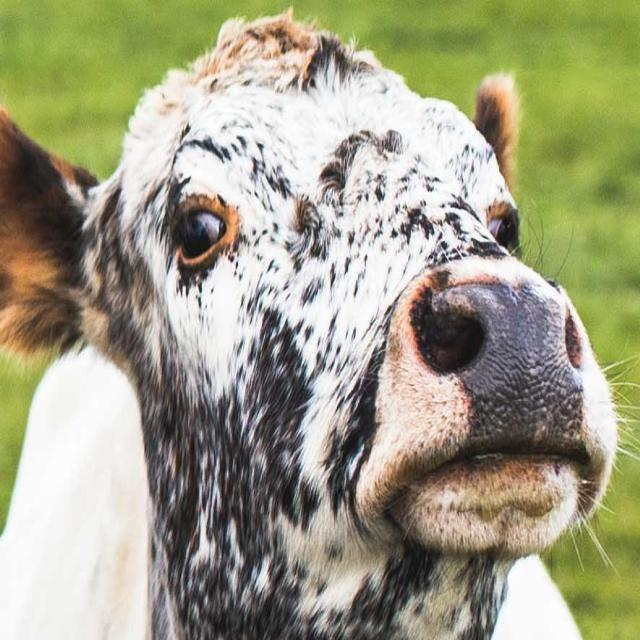cow: (106, 50, 561, 618)
